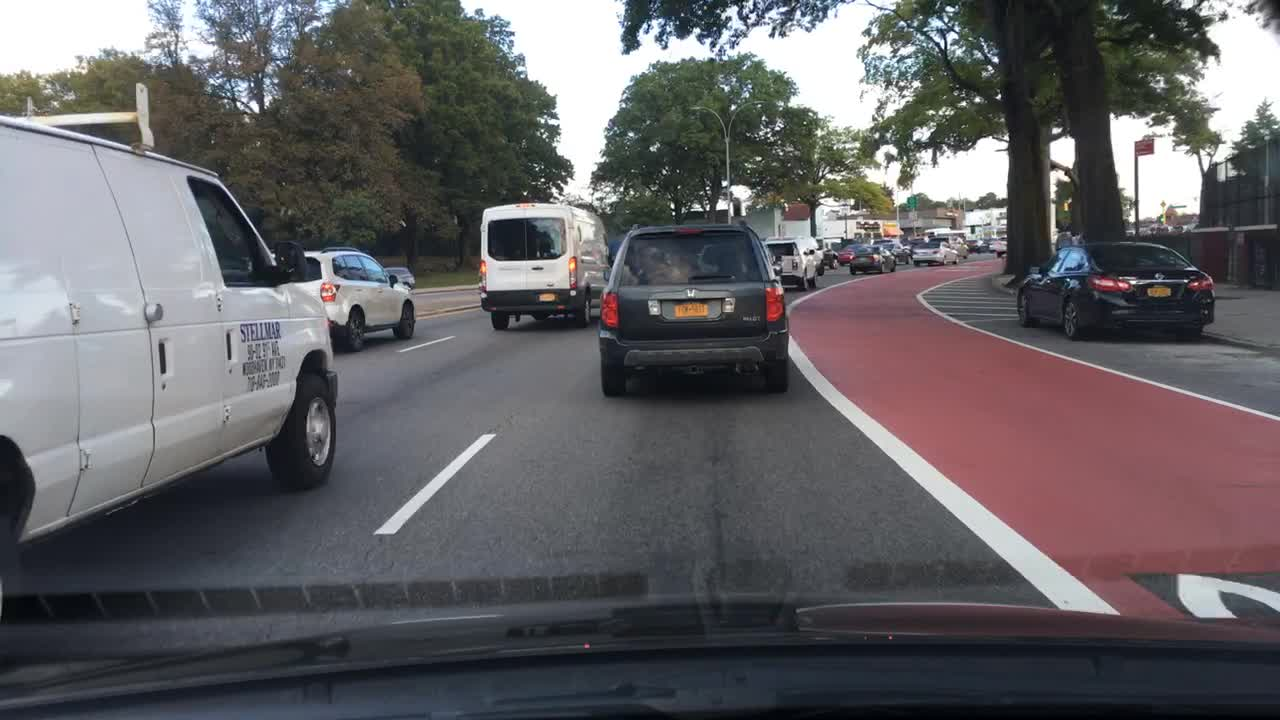car: (0, 84, 341, 561), (600, 219, 789, 396), (1009, 237, 1211, 335), (476, 204, 614, 330), (297, 242, 415, 354), (756, 236, 818, 298), (849, 242, 899, 276), (907, 239, 960, 266), (378, 264, 415, 293), (874, 237, 911, 258), (938, 234, 971, 257), (987, 231, 1014, 259), (813, 242, 828, 273), (823, 244, 842, 266), (838, 241, 857, 263), (965, 236, 983, 253)
traffic light: (880, 222, 904, 237)
traffic sign: (1135, 139, 1155, 156), (1166, 204, 1179, 224), (907, 208, 919, 225), (904, 195, 917, 209)
